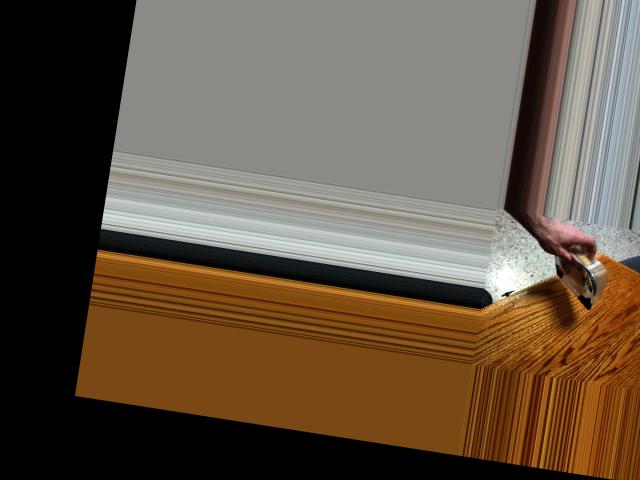cheese: (531, 242, 621, 313)
